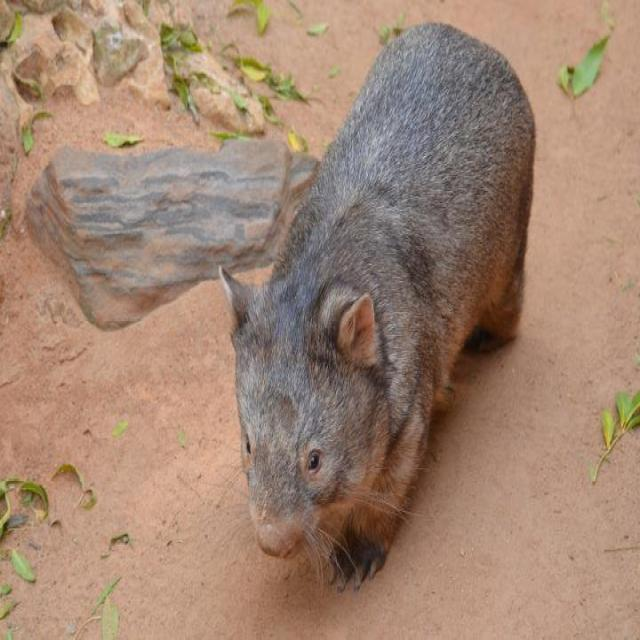Wombat: (223, 24, 537, 584)
